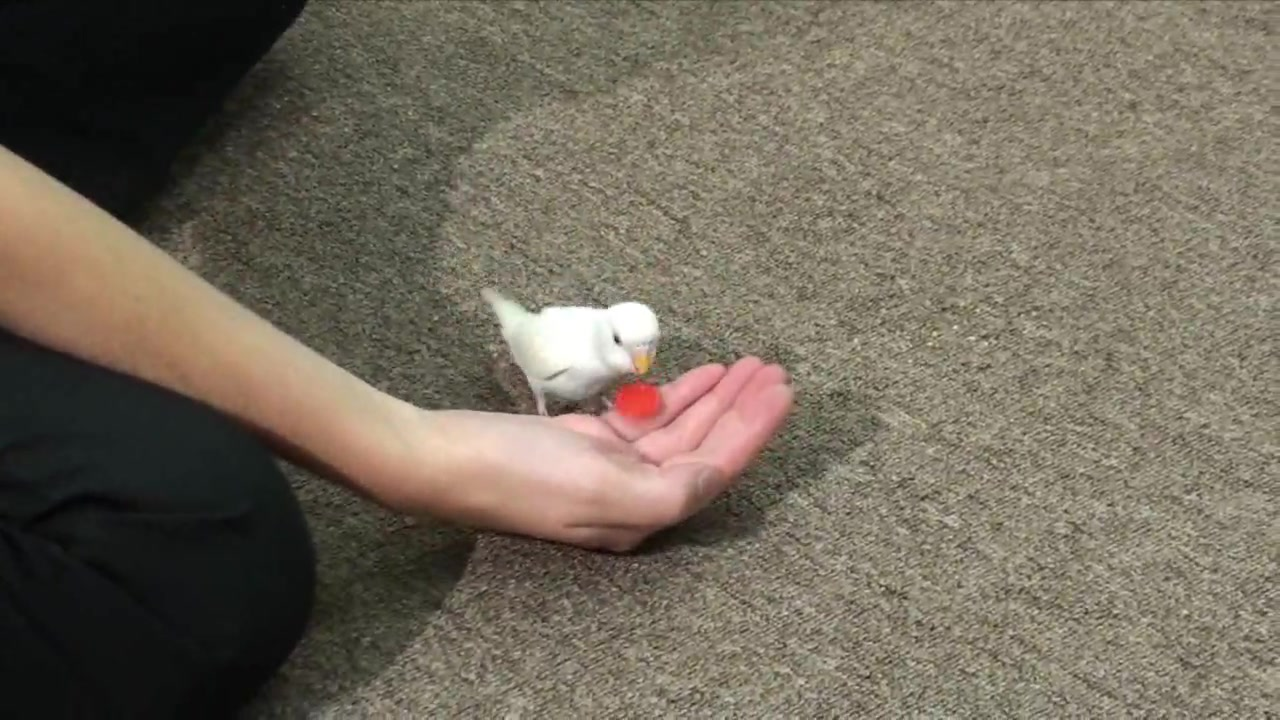bird: (479, 285, 662, 418)
